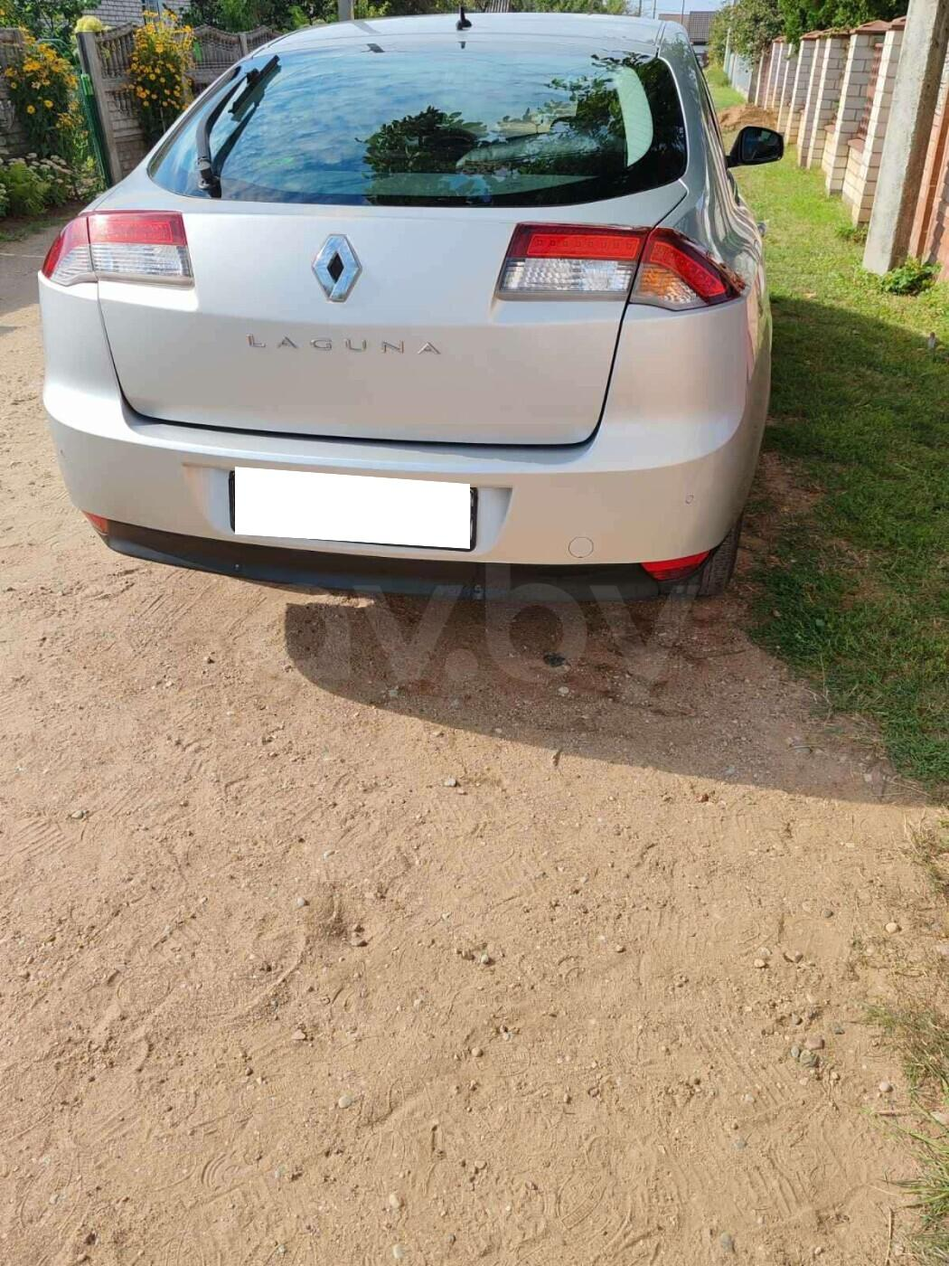Laguna_2007-2011: (37, 0, 783, 600)
